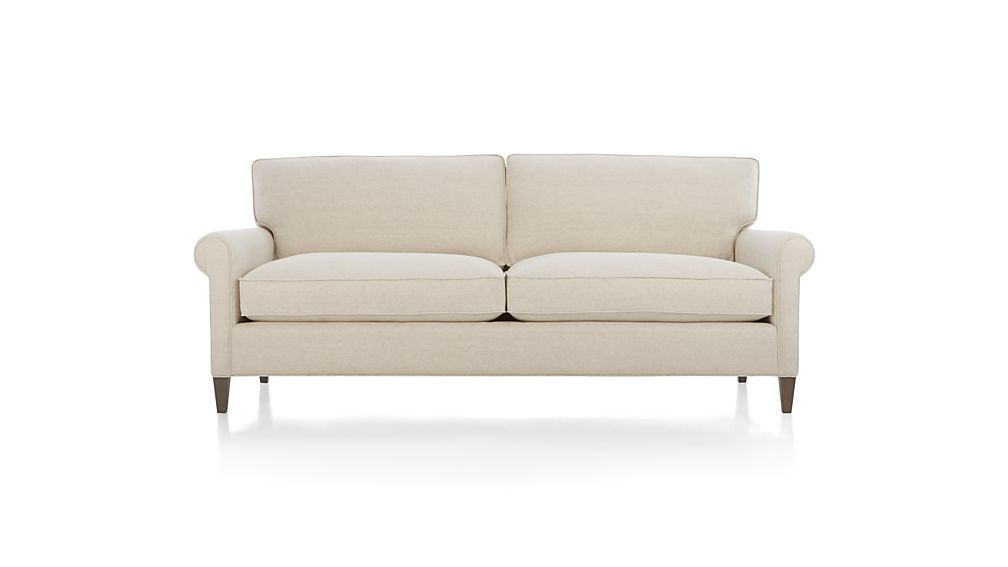chairs: (168, 148, 848, 422)
